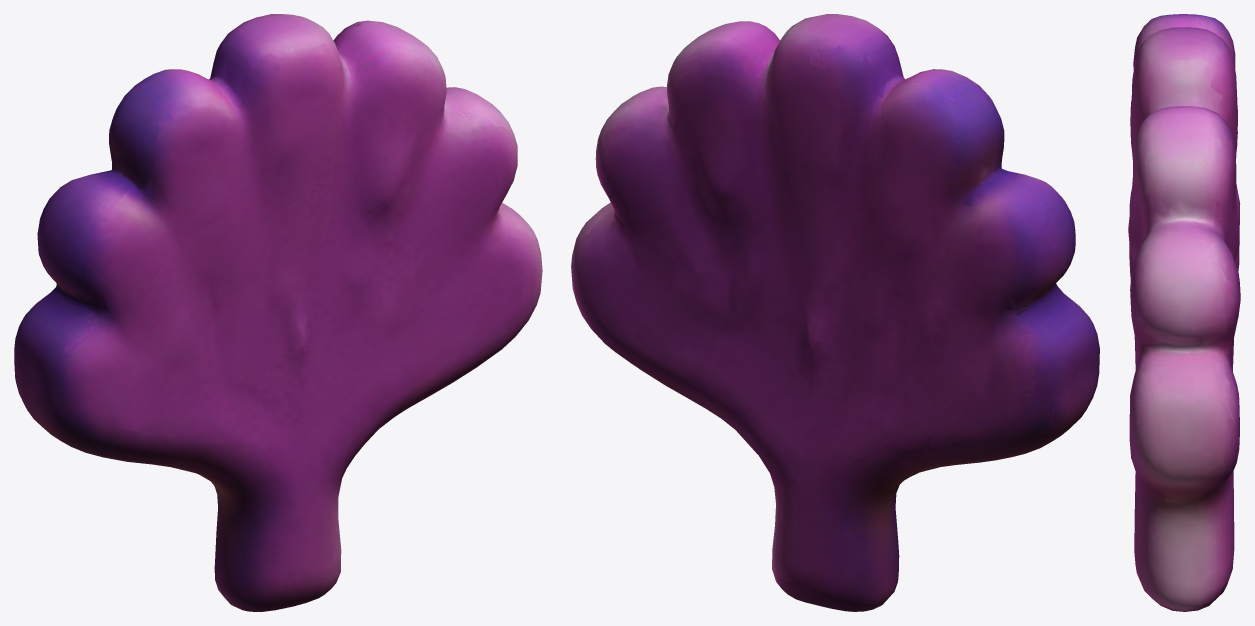
File: fan.glb
3 views of the same model, side by side, from view 1: azimuth 30°, elevation 25°; view 2: azimuth 150°, elevation 25°; view 3: azimuth 270°, elevation 25° (orthographic). The views are drawn at different scales.
Visible parts, largest first — view 1: low; view 2: low; view 3: low.
Part boxes in pixels (left/top/right/bottom): low: left=14, top=14, right=542, bottom=611; low: left=571, top=14, right=1099, bottom=611; low: left=1128, top=14, right=1240, bottom=611.
Bounding box in the file's own units: 1.79 × 2 × 0.3639.
1 material, 1 textured.
